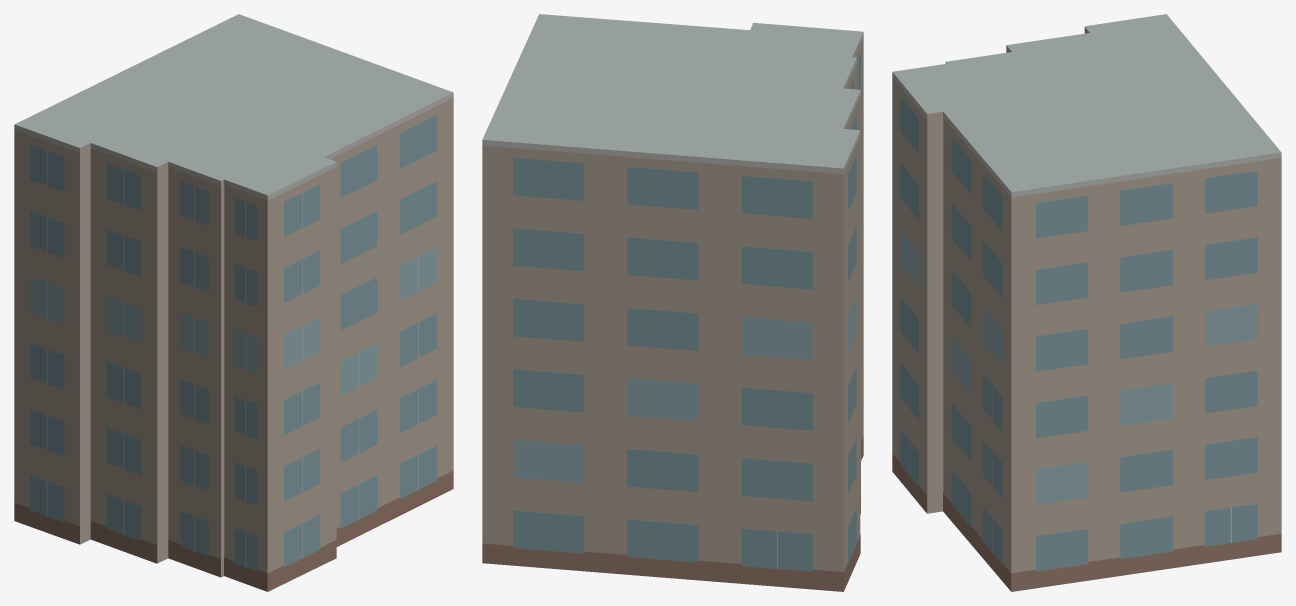
Rendered from survey-upis-32753586.glb.
3 renders of one model, left to right at view 1: azimuth 30°, elevation 25°; view 2: azimuth 150°, elevation 25°; view 3: azimuth 270°, elevation 25°, orthographic. The views are drawn at different scales.
Parts seen in each view (by area): view 1: survey-upis-32753586.tmp; view 2: survey-upis-32753586.tmp; view 3: survey-upis-32753586.tmp.
Part boxes in pixels (x1,y1,x2,y2): survey-upis-32753586.tmp: [14, 14, 453, 591]; survey-upis-32753586.tmp: [482, 14, 863, 591]; survey-upis-32753586.tmp: [892, 14, 1281, 591].
Size of the model in its own units: 17.5 by 18.3 by 16.16.
